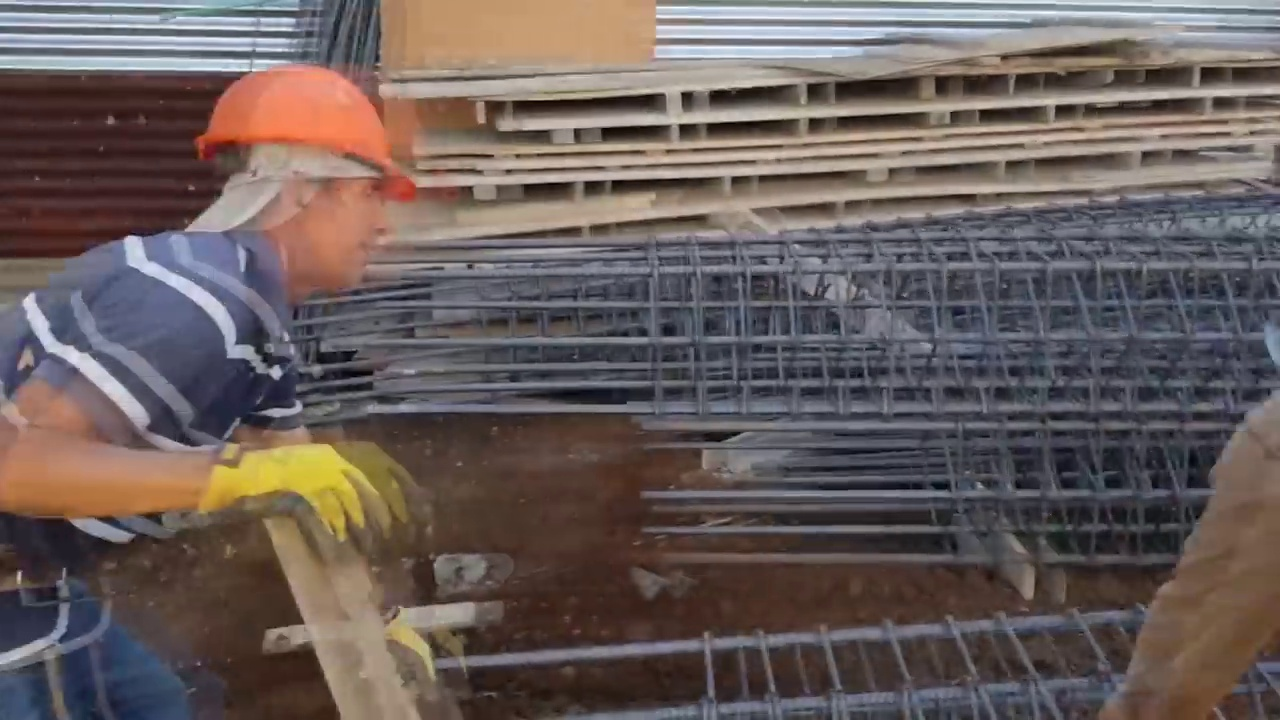helmet: (187, 63, 421, 198)
helmet-on: (182, 59, 418, 271)
person: (0, 60, 426, 717), (1086, 323, 1280, 720)
